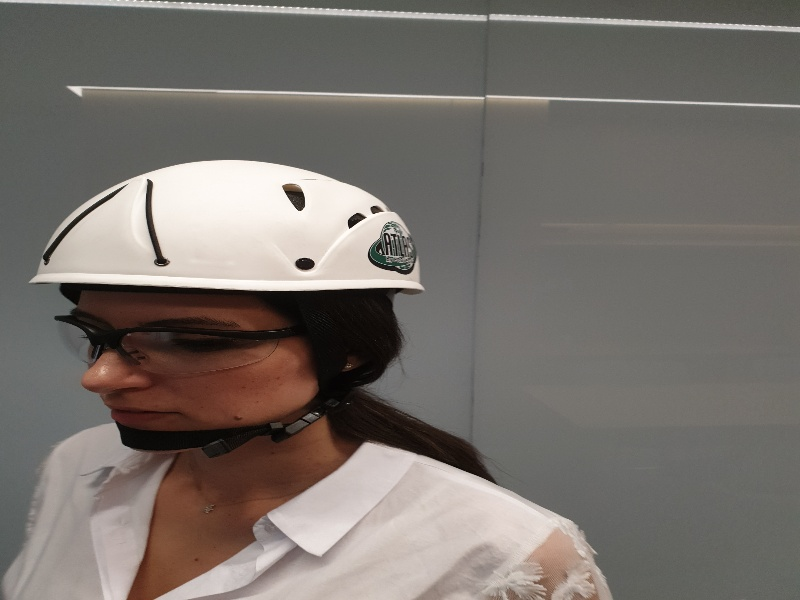Baret: (30, 160, 422, 296)
Gozluk: (54, 314, 339, 377)
